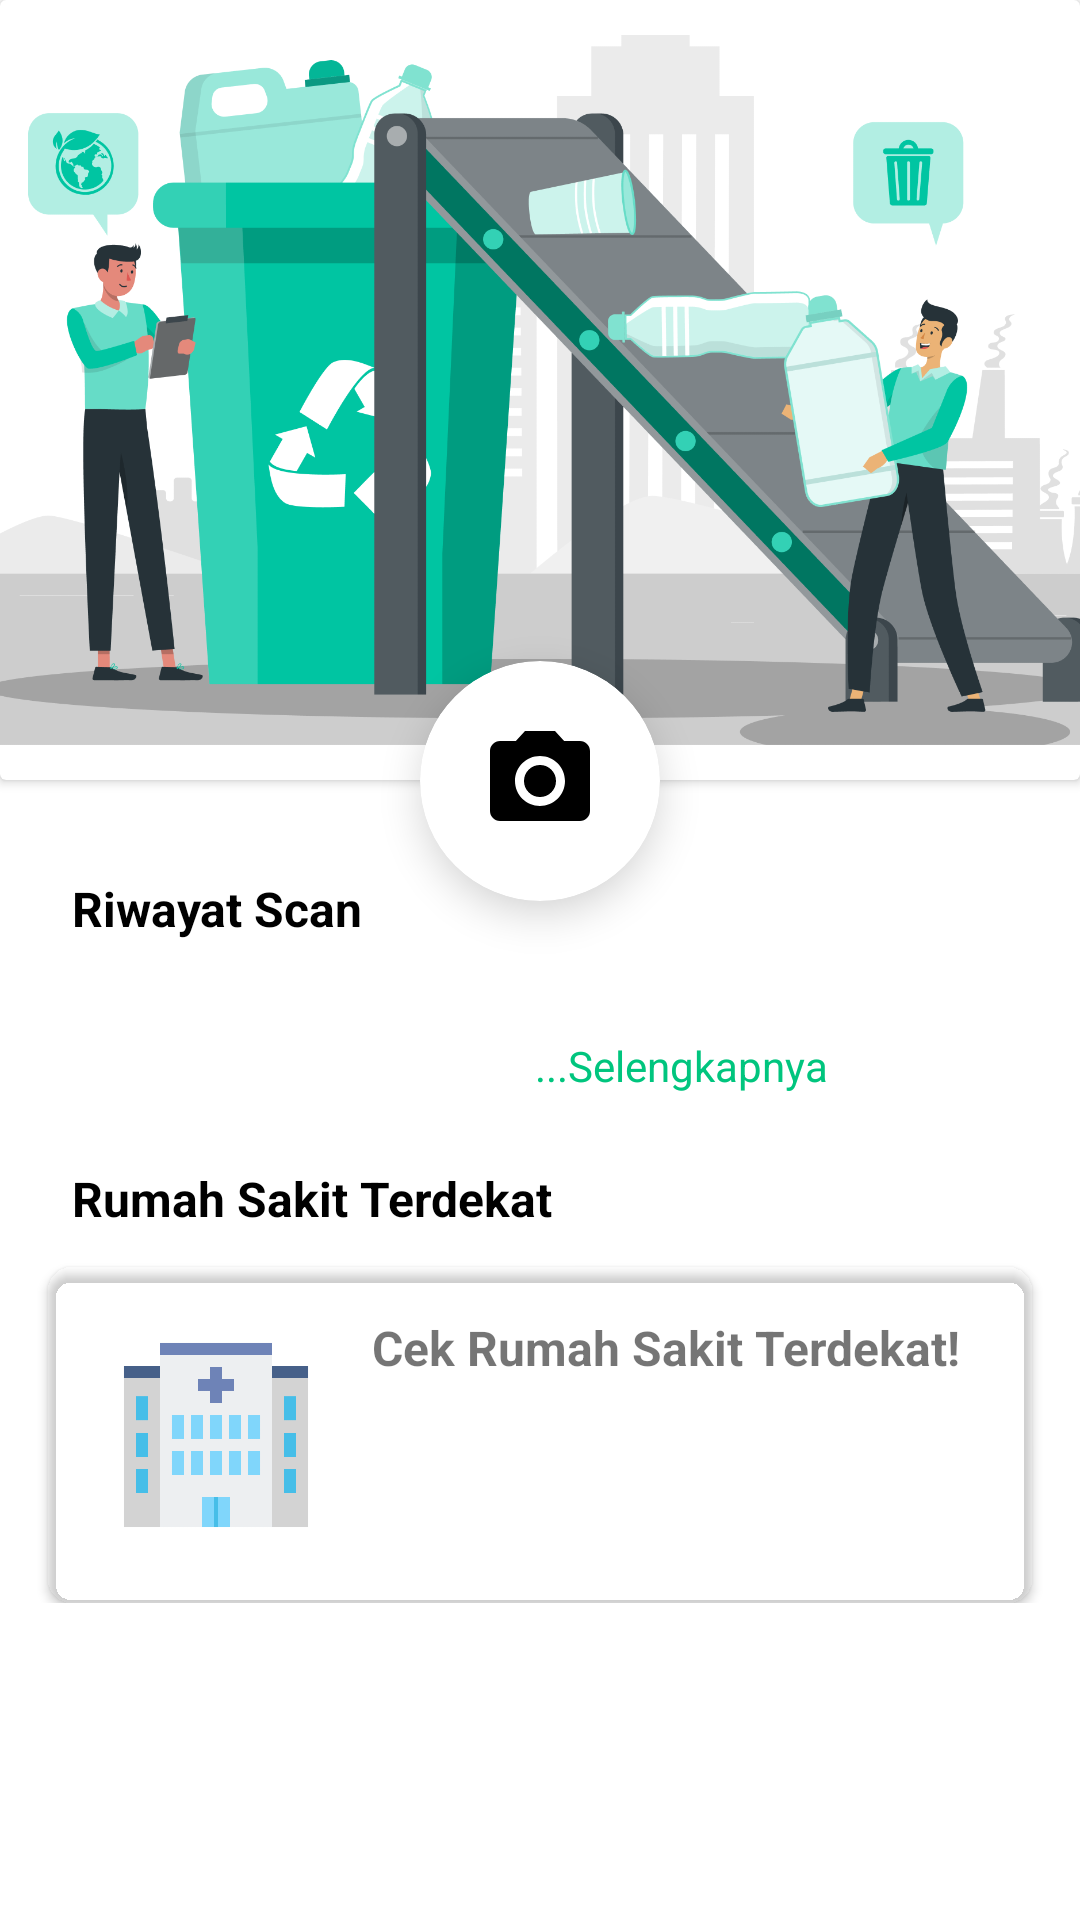

Screen size 1080*1920. Icon name, then its center in pixels as (x=x, y=y):
camera: (x=540, y=781)
